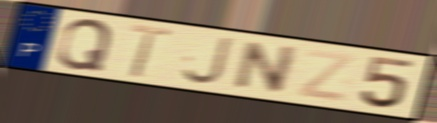5: (360, 55, 417, 111)
J: (179, 35, 235, 87)
N: (229, 39, 302, 95)
Q: (54, 18, 115, 73)
T: (127, 22, 174, 79)
Z: (294, 47, 360, 105)
